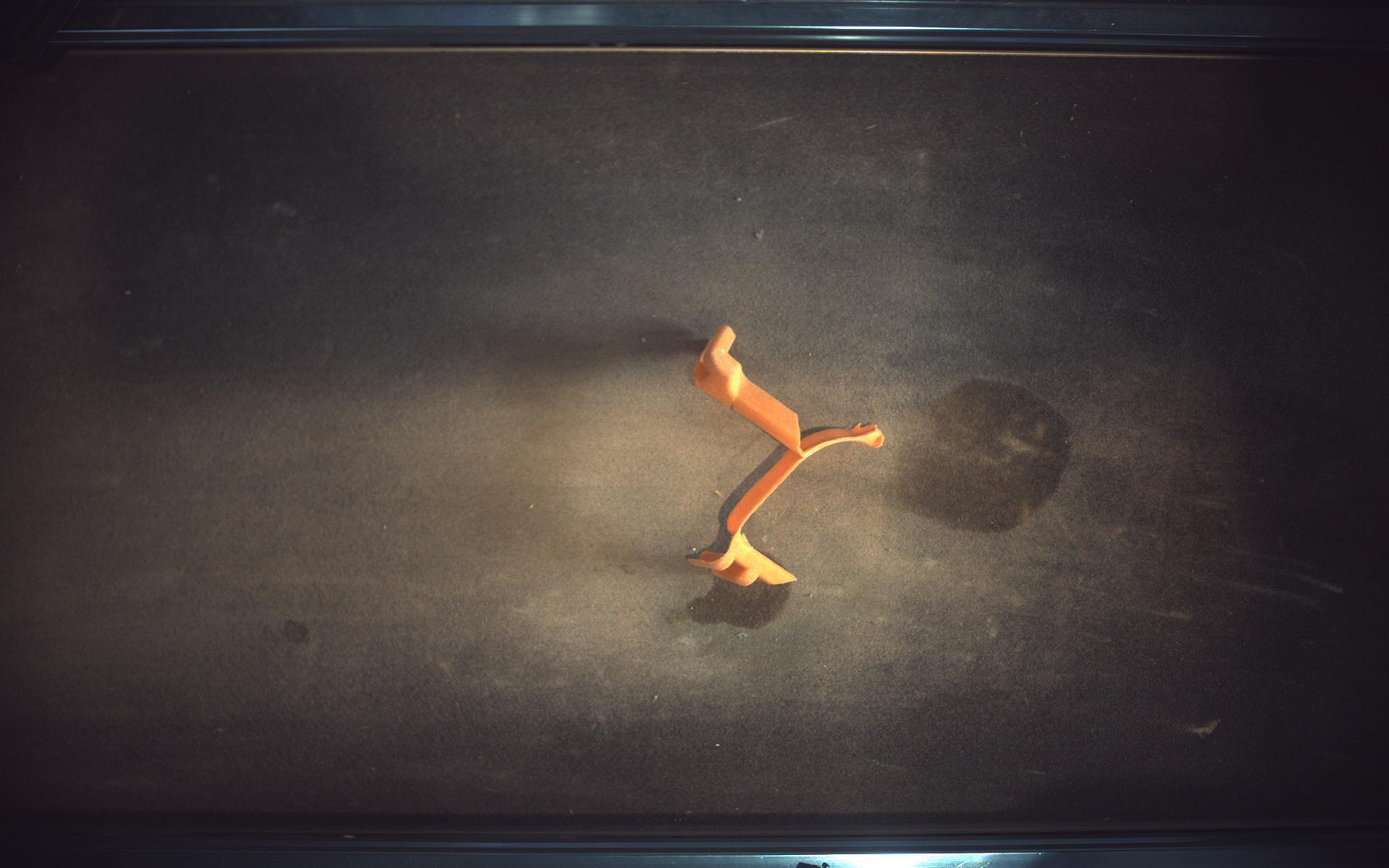general_w: (689, 325, 885, 587)
